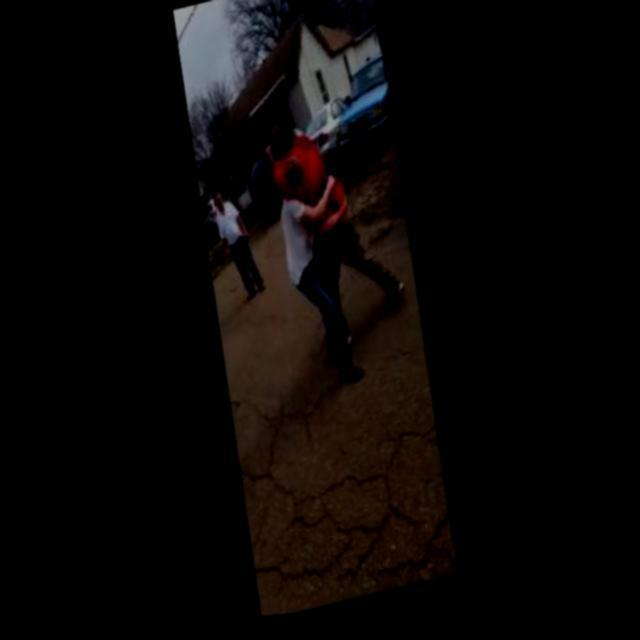fight: (262, 105, 419, 401)
